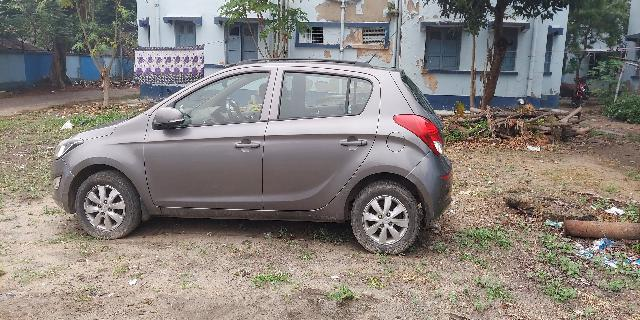Car: (45, 60, 470, 251)
